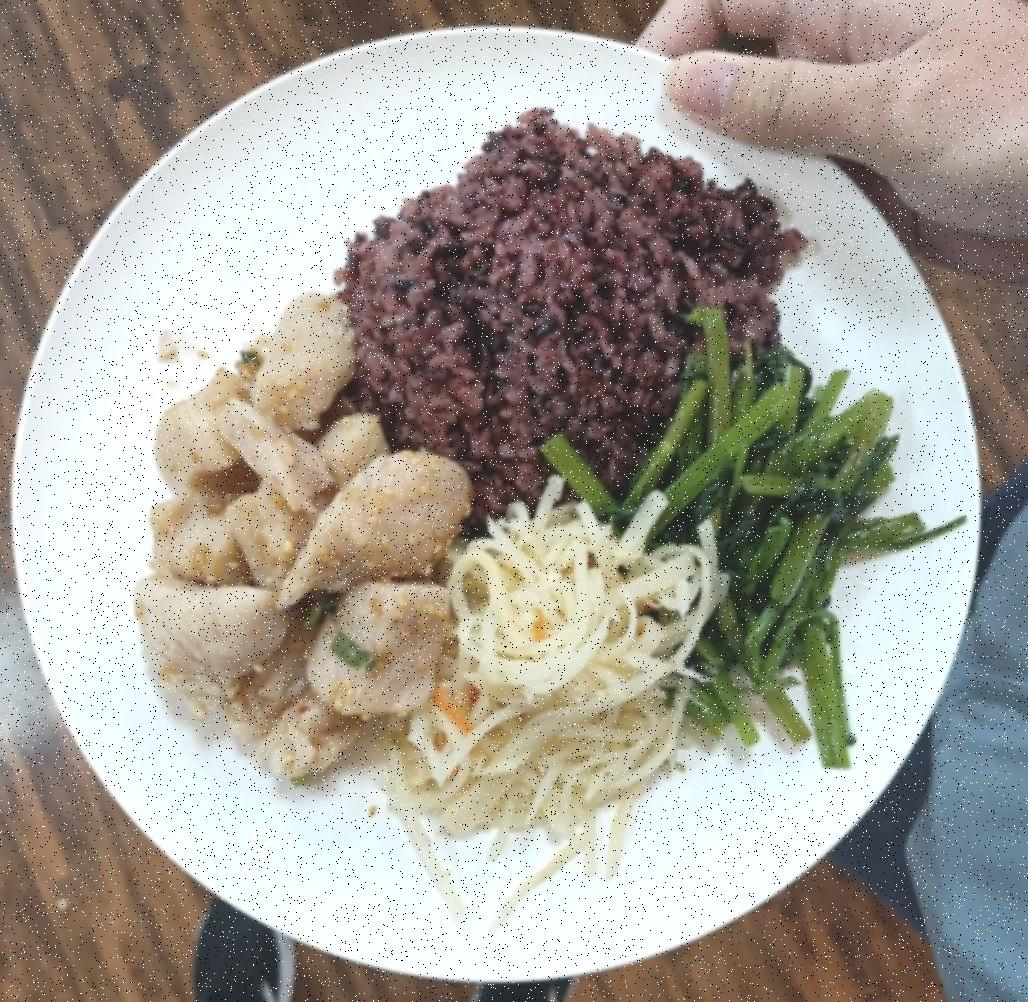big fried chicken leg: (3, 33, 988, 988)
braised fish: (333, 113, 800, 524)
braised fish fillet: (620, 353, 913, 772), (409, 483, 721, 830)
braised pork: (130, 293, 478, 778)
